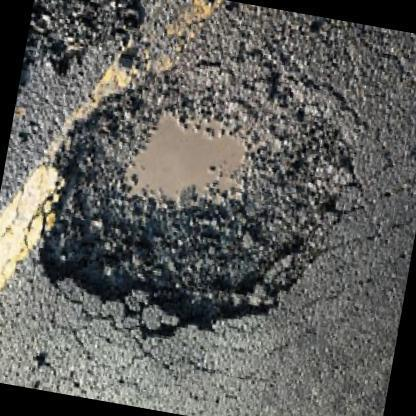pothole: (24, 71, 381, 346)
